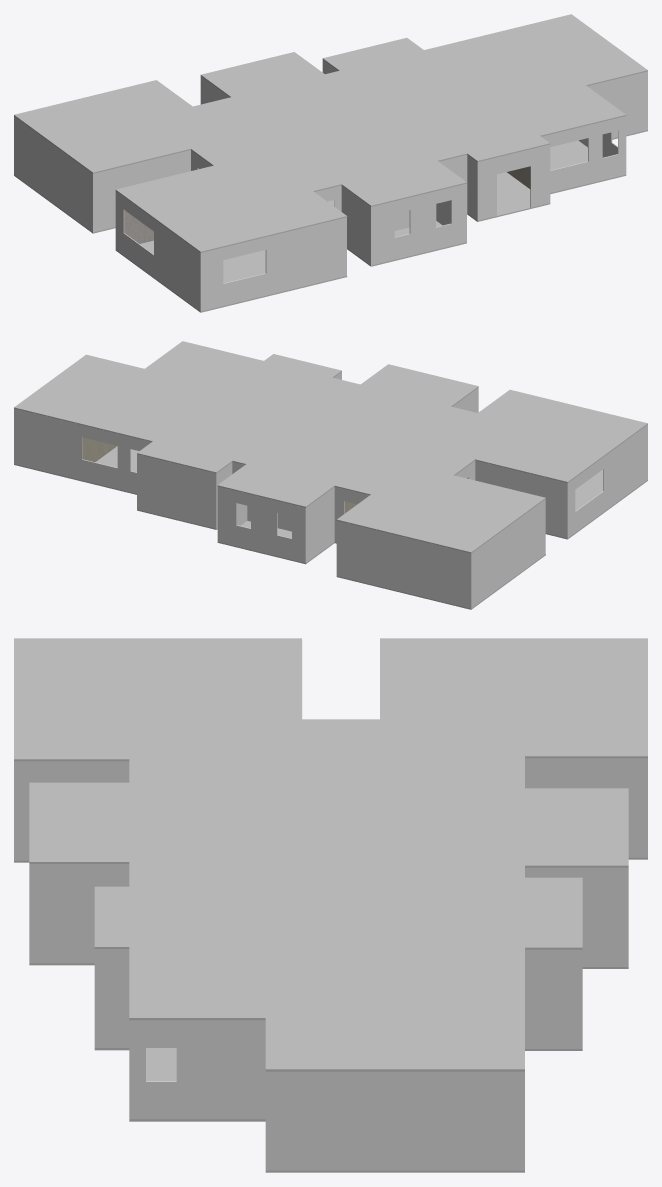
The model's file is Casa_Version07.fbx.
The picture shows the model from 3 angles, top to bottom: view 1: azimuth 30°, elevation 25°; view 2: azimuth 150°, elevation 25°; view 3: azimuth 270°, elevation 25°; orthographic projection. The views are drawn at different scales.
Parts seen in each view (by area): view 1: CeilingHouse, WallsHouse, FloorHouse; view 2: CeilingHouse, WallsHouse, FloorHouse; view 3: CeilingHouse, WallsHouse, FloorHouse.
Part boxes in pixels (x1,y1,x2,y2): CeilingHouse: (14,14,647,252); WallsHouse: (14,60,647,311); FloorHouse: (14,130,647,312); CeilingHouse: (14,341,647,553); WallsHouse: (14,372,647,608); FloorHouse: (14,446,647,609); CeilingHouse: (14,638,647,1071); WallsHouse: (14,640,647,1170); FloorHouse: (14,857,647,1172).
Size of the model in its own units: 26561 by 2970 by 16503.
